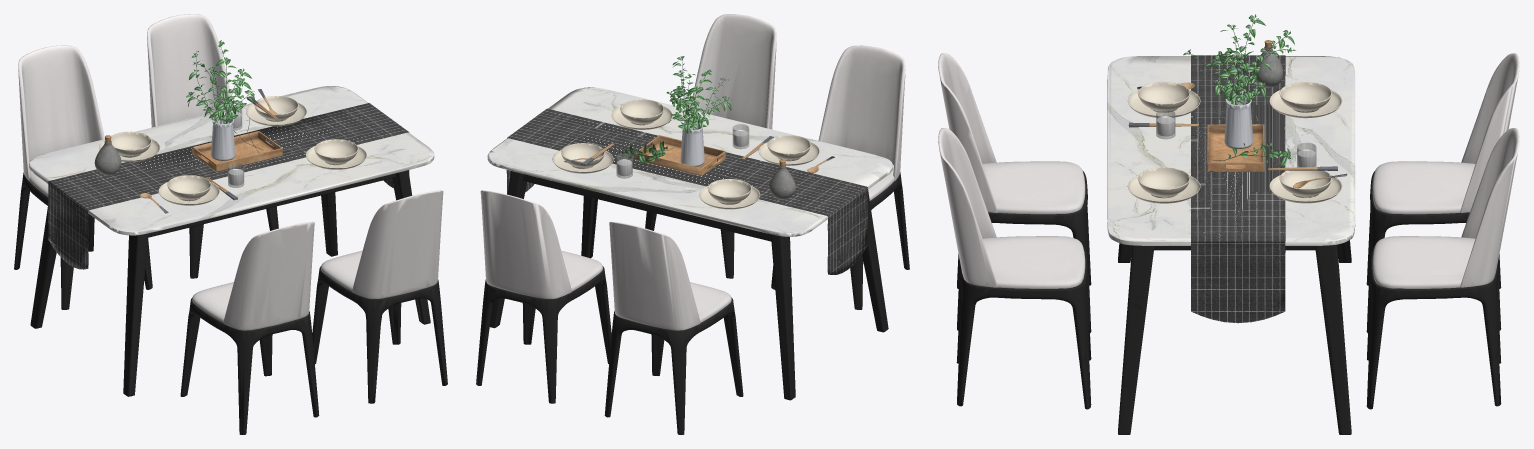
Rendered from dining_table.glb.
3 views of the same model, side by side, from view 1: azimuth 30°, elevation 25°; view 2: azimuth 150°, elevation 25°; view 3: azimuth 270°, elevation 25° (orthographic). The views are drawn at different scales.
Parts seen in each view (by area): view 1: zhuoyi, bu, qita, lvzhi, Cylinder002; view 2: zhuoyi, bu, qita, lvzhi, Cylinder002, 对象003; view 3: zhuoyi, bu, qita, lvzhi, Cylinder002, 对象003.
Boxes of the visible parts, x1,y1,x2,y2 form: zhuoyi: [14, 14, 447, 434]; bu: [48, 103, 409, 269]; qita: [94, 46, 366, 213]; lvzhi: [186, 40, 254, 138]; Cylinder002: [226, 105, 244, 187]; zhuoyi: [476, 14, 909, 434]; bu: [506, 108, 867, 274]; qita: [552, 59, 834, 209]; lvzhi: [621, 56, 731, 164]; Cylinder002: [616, 124, 749, 178]; 对象003: [617, 130, 748, 176]; zhuoyi: [938, 53, 1519, 434]; bu: [1191, 55, 1285, 323]; qita: [1127, 18, 1347, 203]; lvzhi: [1183, 14, 1295, 166]; Cylinder002: [1156, 109, 1316, 167]; 对象003: [1156, 116, 1315, 167].
Bounding box in the file's own units: 1505 × 1246 × 1980.
6 materials, 4 textured.
